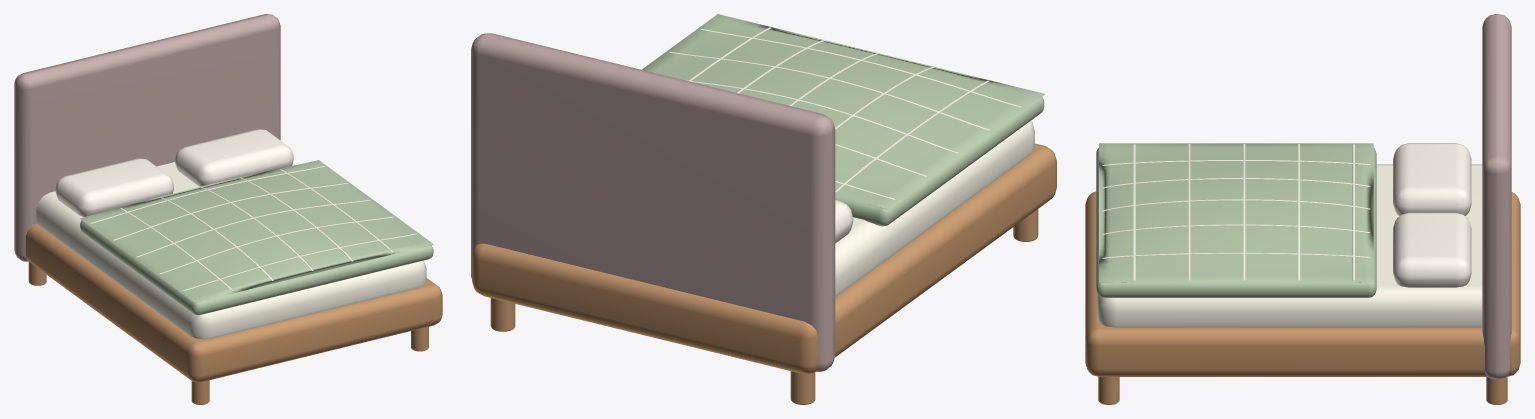
File: bedroomDoubleBed.glb
3 views of the same model, side by side, from view 1: azimuth 30°, elevation 25°; view 2: azimuth 150°, elevation 25°; view 3: azimuth 270°, elevation 25° (orthographic). The views are drawn at different scales.
Parts seen in each view (by area): view 1: Upholstered headboard, Soft quilt cloth, Oak bed frame, Mattress, Quilt padded hem, Bed pillow, Bed pillow.001, Furniture foot, Furniture foot.002, Quilt stitching.005; view 2: Upholstered headboard, Oak bed frame, Soft quilt cloth, Mattress, Quilt padded hem, Furniture foot.001, Furniture foot.003, Quilt stitching.006, Quilt stitching.005, Furniture foot, Bed pillow, Quilt stitching.007; view 3: Soft quilt cloth, Oak bed frame, Mattress, Upholstered headboard, Bed pillow.001, Bed pillow, Quilt padded hem, Furniture foot.002, Furniture foot.003, Quilt stitching.002, Quilt stitching.003, Quilt stitching.001 (+7 smaller).
Boxes of the visible parts, x1,y1,x2,y2 form: Upholstered headboard: [14, 14, 280, 261]; Soft quilt cloth: [80, 160, 433, 302]; Oak bed frame: [25, 224, 442, 382]; Mattress: [36, 162, 426, 339]; Quilt padded hem: [80, 220, 433, 315]; Bed pillow: [55, 158, 173, 216]; Bed pillow.001: [175, 129, 293, 186]; Furniture foot: [191, 380, 209, 404]; Furniture foot.002: [411, 326, 428, 351]; Quilt stitching.005: [182, 233, 416, 290]; Upholstered headboard: [471, 33, 835, 371]; Oak bed frame: [472, 143, 1056, 373]; Soft quilt cloth: [642, 14, 1044, 209]; Mattress: [835, 120, 1034, 297]; Quilt padded hem: [835, 97, 1044, 226]; Furniture foot.001: [790, 371, 815, 404]; Furniture foot.003: [490, 298, 515, 331]; Quilt stitching.006: [669, 51, 989, 130]; Quilt stitching.005: [701, 29, 1021, 107]; Furniture foot: [1013, 209, 1038, 241]; Bed pillow: [835, 199, 853, 243]; Quilt stitching.007: [686, 80, 958, 153]; Soft quilt cloth: [1099, 143, 1373, 282]; Oak bed frame: [1085, 191, 1520, 376]; Mattress: [1097, 164, 1482, 327]; Upholstered headboard: [1482, 14, 1511, 379]; Bed pillow.001: [1393, 212, 1471, 287]; Bed pillow: [1393, 143, 1471, 215]; Quilt padded hem: [1096, 148, 1376, 297]; Furniture foot.002: [1098, 377, 1119, 404]; Furniture foot.003: [1486, 377, 1507, 404]; Quilt stitching.002: [1102, 199, 1370, 211]; Quilt stitching.003: [1102, 224, 1370, 234]; Quilt stitching.001: [1102, 178, 1370, 188].
Size of the model in its own units: 1.84 by 1.42 by 2.22.
